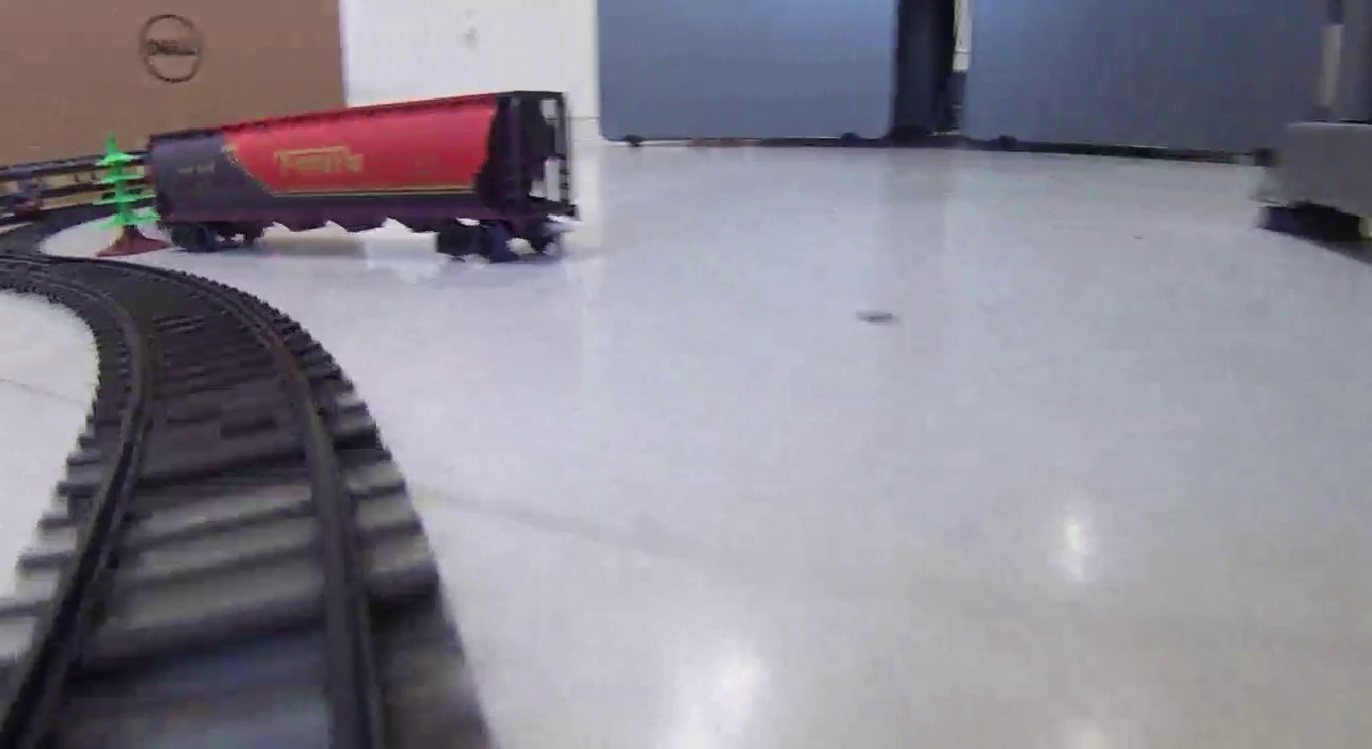tree: (92, 138, 162, 256)
